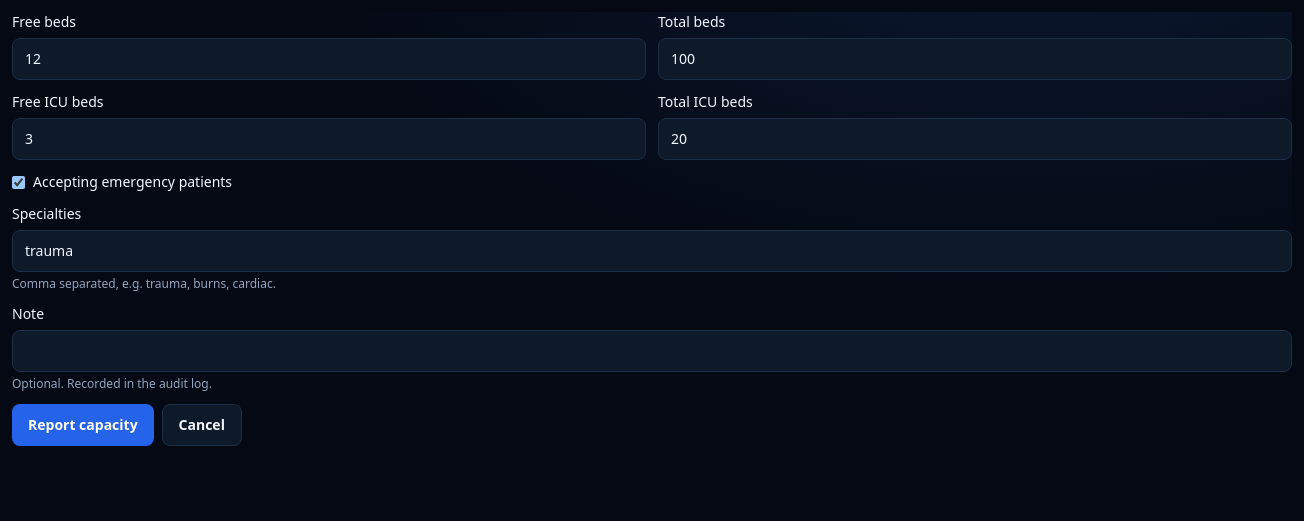
Scenario: CapacityForm › shows the server's refusal
The image size is (1304, 521).
Click the checkbox labelled "Accepting emergency patients".
click(18, 182)  # box x1=12 y1=176 x2=25 y2=188
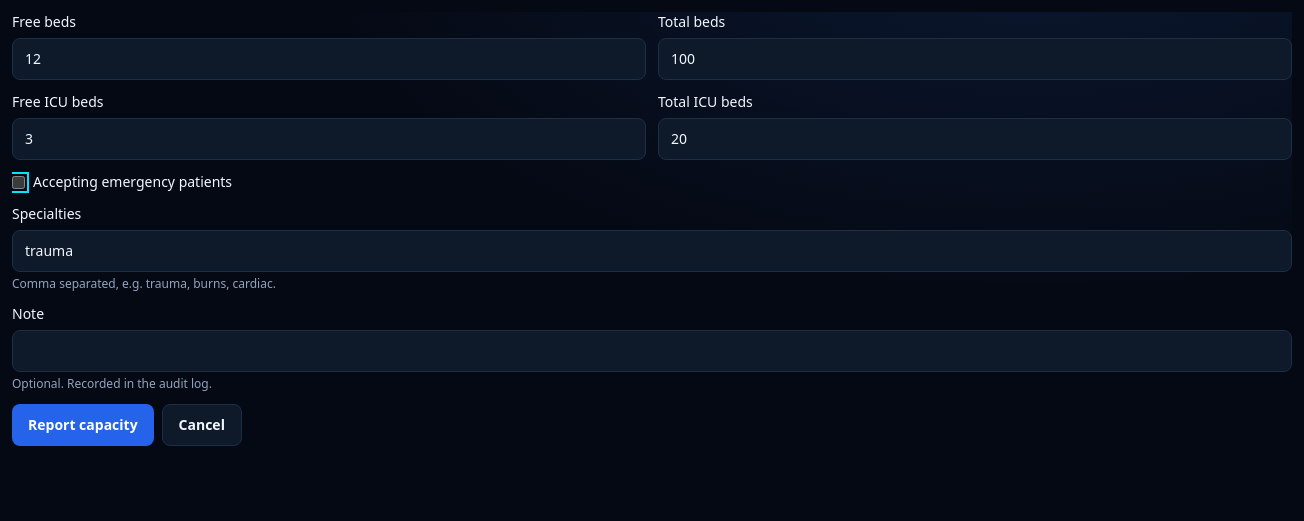
Click the button "Report capacity".
click(83, 425)  # box x1=12 y1=404 x2=154 y2=446
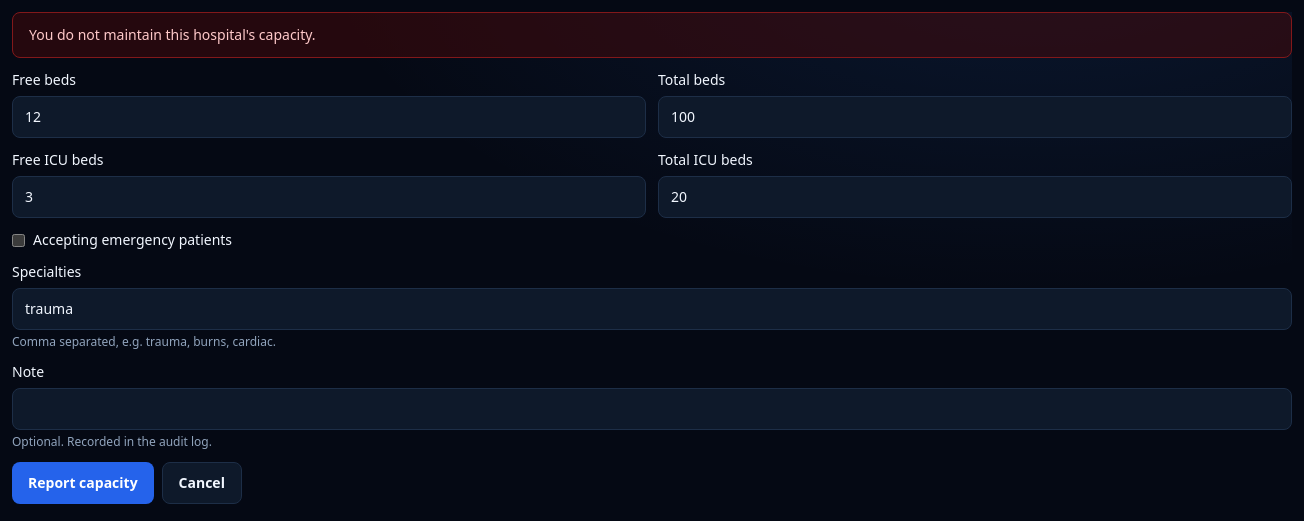
Expected: the message shows "do not maintain", x1=29 y1=25 x2=316 y2=44
